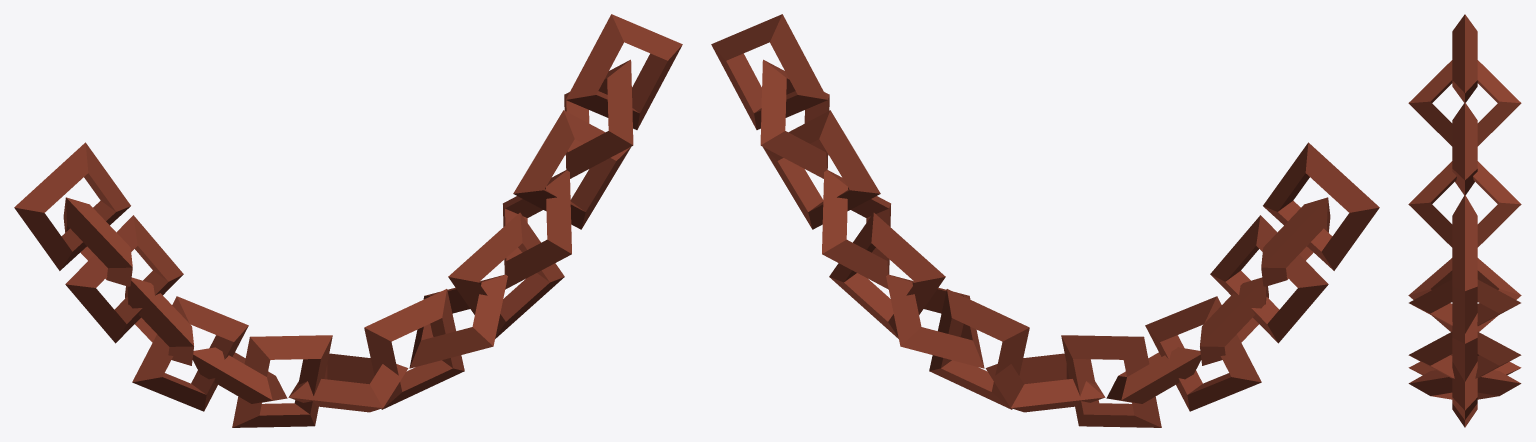
The model's file is Chain_4_Red.fbx.
The picture shows the model from 3 angles, left to right: view 1: azimuth 30°, elevation 25°; view 2: azimuth 150°, elevation 25°; view 3: azimuth 270°, elevation 25°; orthographic projection. The views are drawn at different scales.
Visible parts, largest first — view 1: Chain_4_Red; view 2: Chain_4_Red; view 3: Chain_4_Red.
Boxes of the visible parts, <box> form: Chain_4_Red: <box>14,14,682,427</box>; Chain_4_Red: <box>711,14,1379,427</box>; Chain_4_Red: <box>1408,14,1521,427</box>.
Size of the model in its own units: 120 by 58.21 by 21.5.
